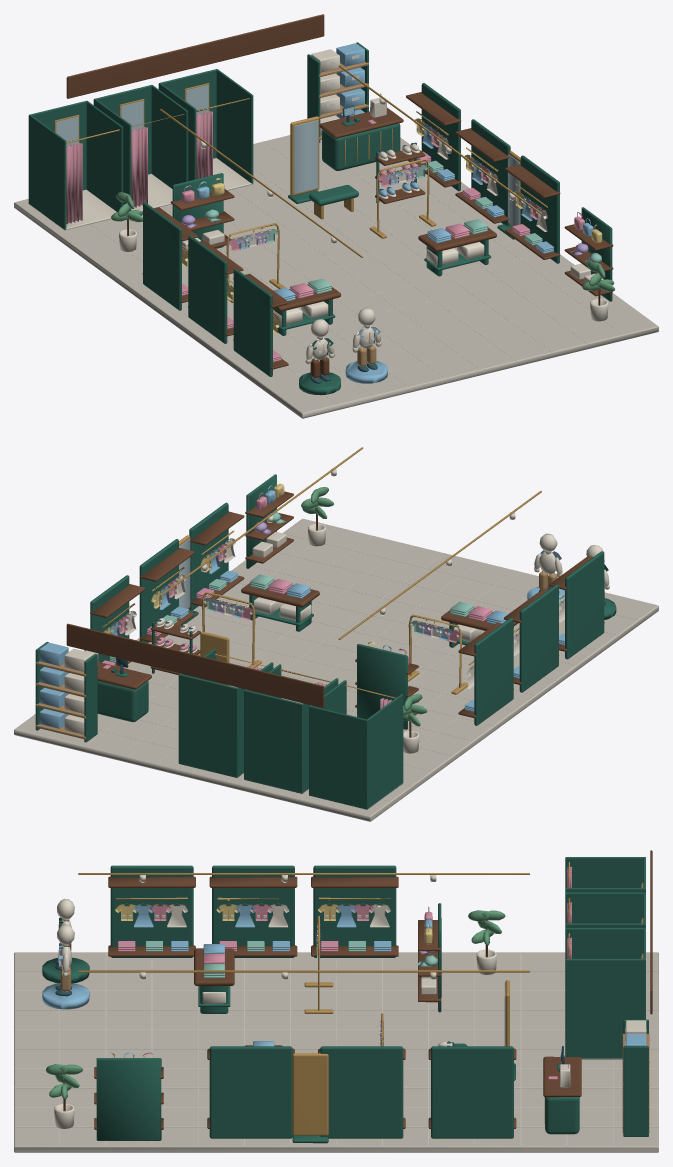
Rendered from shop_C.glb.
The picture shows the model from 3 angles, top to bottom: view 1: azimuth 30°, elevation 25°; view 2: azimuth 150°, elevation 25°; view 3: azimuth 270°, elevation 25°; orthographic projection. The views are drawn at different scales.
Parts seen in each view (by area): view 1: floor, svc:7:FIXTURE_Fitting_01.002, svc:11:FIXTURE_Fitting_03, svc:9:FIXTURE_Fitting_02.001, svc:30:Store_Brand_Panel, svc:1:FIXTURE_Back_Stock.002, svc:3:FIXTURE_Checkout.002, room:13:FIXTURE_Left_Wall_Apparel.005, room:18:FIXTURE_Right_Wall_Apparel, room:14:FIXTURE_Left_Wall_Apparel.006, room:15:FIXTURE_Left_Wall_Apparel.007, room:19:FIXTURE_Right_Wall_Apparel.001 (+20 smaller); view 2: floor, svc:7:FIXTURE_Fitting_01.002, svc:11:FIXTURE_Fitting_03, svc:9:FIXTURE_Fitting_02.001, svc:30:Store_Brand_Panel, svc:1:FIXTURE_Back_Stock.002, room:15:FIXTURE_Left_Wall_Apparel.007, room:13:FIXTURE_Left_Wall_Apparel.005, room:14:FIXTURE_Left_Wall_Apparel.006, room:18:FIXTURE_Right_Wall_Apparel, room:19:FIXTURE_Right_Wall_Apparel.001, room:2:FIXTURE_Bag_Salon (+15 smaller); view 3: floor, svc:11:FIXTURE_Fitting_03, room:18:FIXTURE_Right_Wall_Apparel, room:20:FIXTURE_Right_Wall_Apparel.002, room:13:FIXTURE_Left_Wall_Apparel.005, room:15:FIXTURE_Left_Wall_Apparel.007, room:14:FIXTURE_Left_Wall_Apparel.006, room:19:FIXTURE_Right_Wall_Apparel.001, room:0:FIXTURE_Accessories.002, room:4:FIXTURE_Customer_Mirror.002, svc:1:FIXTURE_Back_Stock.002, svc:3:FIXTURE_Checkout.002 (+12 smaller).
Part boxes in pixels (bbox=[...]): floor: bbox=[14, 135, 658, 418]; svc:7:FIXTURE_Fitting_01.002: bbox=[28, 100, 123, 230]; svc:11:FIXTURE_Fitting_03: bbox=[158, 69, 253, 190]; svc:9:FIXTURE_Fitting_02.001: bbox=[93, 85, 188, 211]; svc:30:Store_Brand_Panel: bbox=[66, 14, 324, 98]; svc:1:FIXTURE_Back_Stock.002: bbox=[307, 42, 368, 142]; svc:3:FIXTURE_Checkout.002: bbox=[319, 93, 403, 170]; room:13:FIXTURE_Left_Wall_Apparel.005: bbox=[233, 269, 288, 376]; room:18:FIXTURE_Right_Wall_Apparel: bbox=[505, 155, 560, 263]; room:14:FIXTURE_Left_Wall_Apparel.006: bbox=[188, 235, 243, 343]; room:15:FIXTURE_Left_Wall_Apparel.007: bbox=[142, 202, 197, 310]; room:19:FIXTURE_Right_Wall_Apparel.001: bbox=[455, 119, 510, 225]; floor: bbox=[14, 518, 658, 821]; svc:7:FIXTURE_Fitting_01.002: bbox=[309, 680, 403, 809]; svc:11:FIXTURE_Fitting_03: bbox=[178, 648, 273, 777]; svc:9:FIXTURE_Fitting_02.001: bbox=[244, 664, 338, 793]; svc:30:Store_Brand_Panel: bbox=[66, 623, 324, 708]; svc:1:FIXTURE_Back_Stock.002: bbox=[35, 642, 97, 742]; room:15:FIXTURE_Left_Wall_Apparel.007: bbox=[458, 617, 513, 725]; room:13:FIXTURE_Left_Wall_Apparel.005: bbox=[549, 551, 604, 659]; room:14:FIXTURE_Left_Wall_Apparel.006: bbox=[504, 584, 559, 692]; room:18:FIXTURE_Right_Wall_Apparel: bbox=[189, 502, 244, 610]; room:19:FIXTURE_Right_Wall_Apparel.001: bbox=[139, 539, 194, 643]; room:2:FIXTURE_Bag_Salon: bbox=[355, 641, 418, 729]; floor: bbox=[14, 952, 658, 1152]; svc:11:FIXTURE_Fitting_03: bbox=[565, 928, 645, 1059]; room:18:FIXTURE_Right_Wall_Apparel: bbox=[207, 1046, 294, 1138]; room:20:FIXTURE_Right_Wall_Apparel.002: bbox=[428, 1046, 516, 1138]; room:13:FIXTURE_Left_Wall_Apparel.005: bbox=[108, 865, 195, 957]; room:15:FIXTURE_Left_Wall_Apparel.007: bbox=[311, 865, 398, 957]; room:14:FIXTURE_Left_Wall_Apparel.006: bbox=[209, 865, 297, 957]; room:19:FIXTURE_Right_Wall_Apparel.001: bbox=[318, 1046, 405, 1138]; room:0:FIXTURE_Accessories.002: bbox=[94, 1052, 163, 1140]; room:4:FIXTURE_Customer_Mirror.002: bbox=[292, 1053, 328, 1143]; svc:1:FIXTURE_Back_Stock.002: bbox=[622, 1019, 649, 1136]; svc:3:FIXTURE_Checkout.002: bbox=[543, 1046, 581, 1134].
Bounding box in the file's own units: 10 × 3.25 × 13.99.
